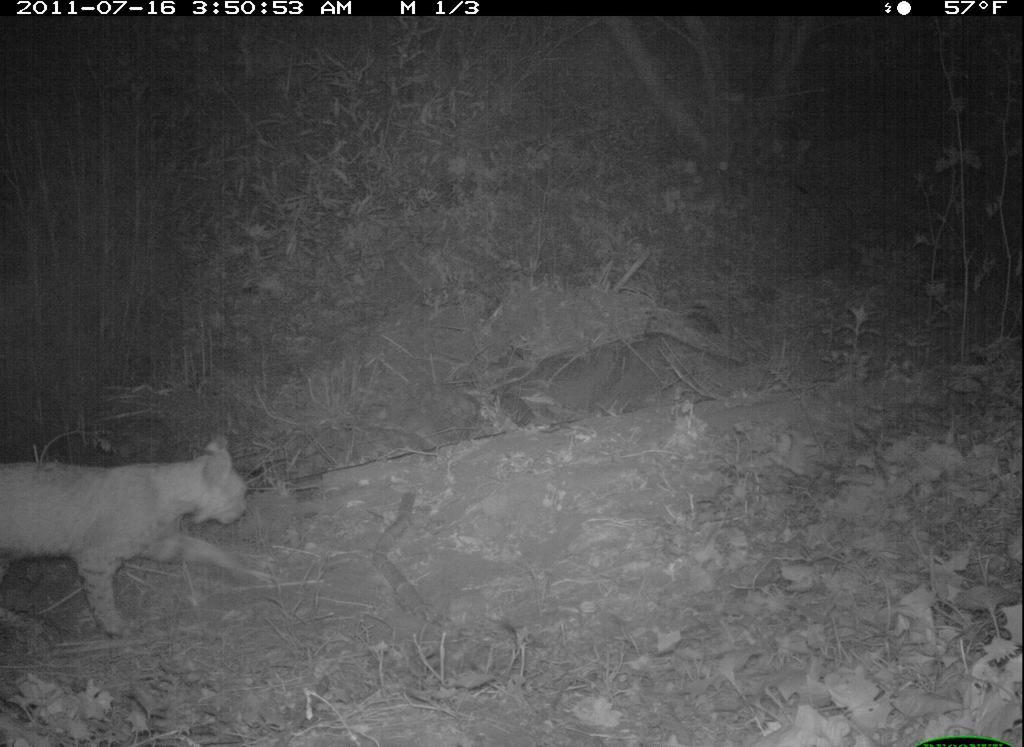bobcat: (3, 428, 254, 639)
